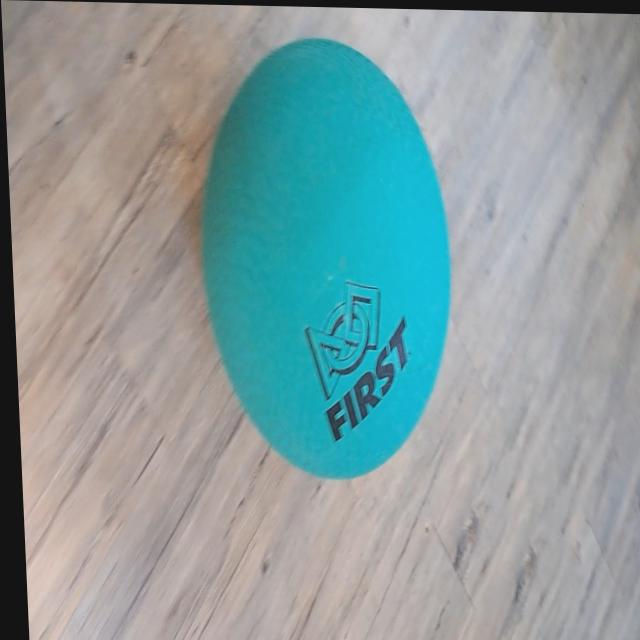ALGAE: (189, 33, 461, 484)
